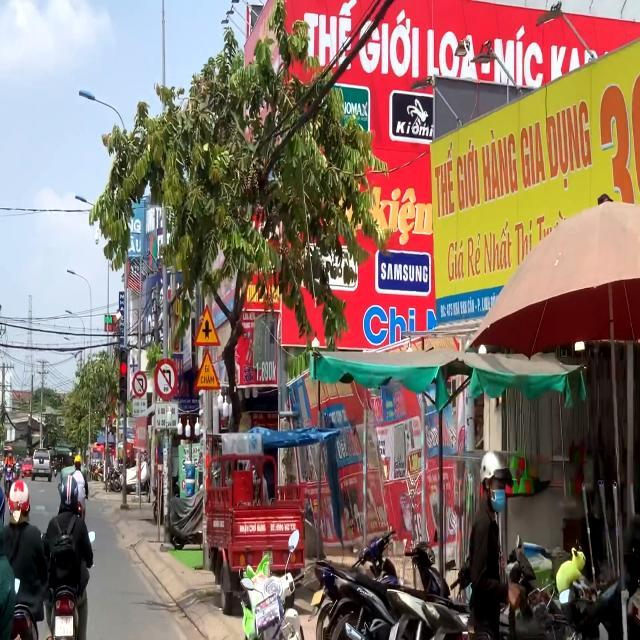Di cham: (193, 347, 223, 397)
Giao nhau voi duong khong uu tien: (192, 302, 222, 352)
